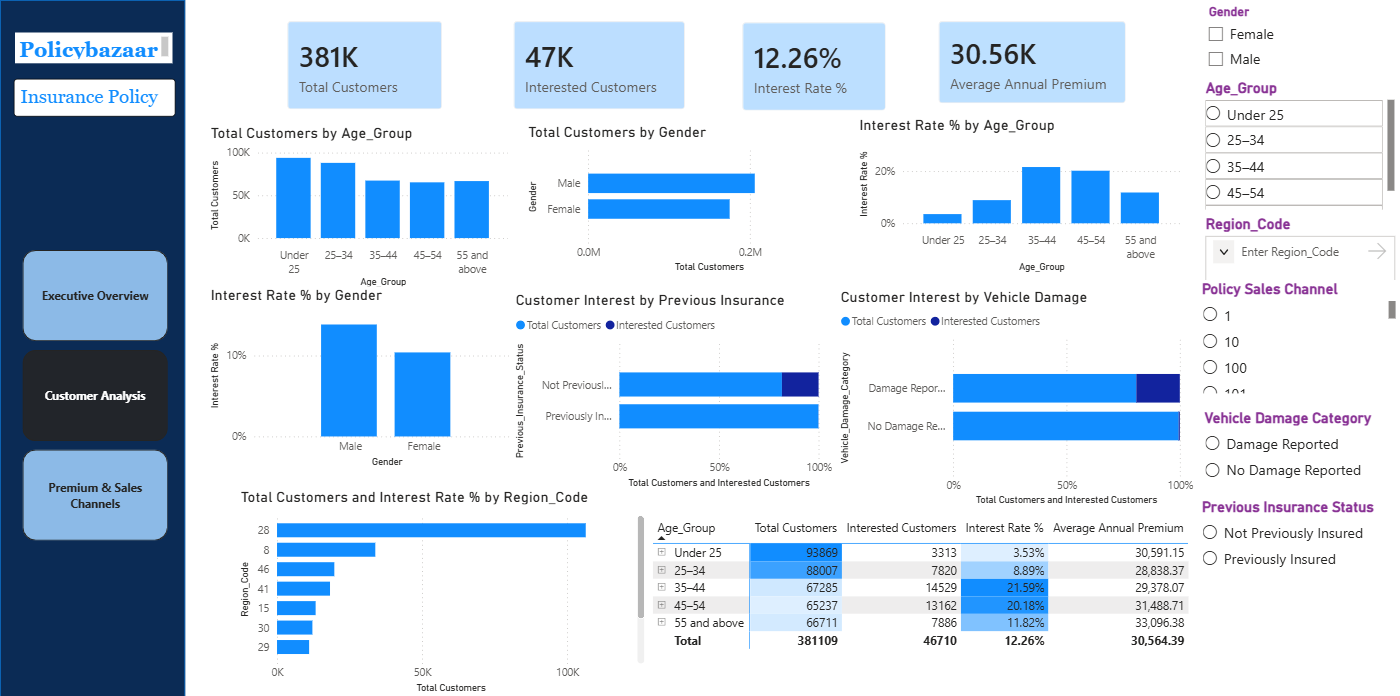

This screenshot's page, from the dashboard's own definition file:
{"tool":"powerbi","page":{"name":"Customer Analysis","canvas":[1400,800],"ordinal":1},"visuals":[{"type":"cardVisual","fields":{"Data":["Customers.Total Customers"]},"box":[90.6,0,211.5,134.7],"z":0},{"type":"cardVisual","fields":{"Data":["Customers.Interested Customers"]},"box":[368.6,0,230,134.3],"z":1000},{"type":"cardVisual","fields":{"Data":["Customers.Interest Rate %"]},"box":[664.3,0,198.6,134.3],"z":2000},{"type":"cardVisual","fields":{"Data":["Customers.Average Annual Premium"]},"box":[892.9,0,248.6,128.6],"z":3000},{"type":"slicer","fields":{"Values":["Customers.Gender"]},"box":[1168.6,0,231.4,90],"z":10000},{"type":"listSlicer","fields":{"Values":["Customers.Age_Group"]},"box":[1168.6,90,225.7,155.7],"z":11000},{"type":"listSlicer","title":"Previous Insurance Status","fields":{"Values":["Customers.Previous_Insurance_Status"]},"box":[1168.6,595.7,231.4,122.9],"z":12000},{"type":"textSlicer","fields":{"Values":["Customers.Region_Code"]},"box":[1168.6,248.6,225.7,81.4],"z":13000},{"type":"listSlicer","title":"Policy Sales Channel","fields":{"Values":["Customers.Policy_Sales_Channel"]},"box":[1168.6,330,231.4,134.3],"z":14000},{"type":"listSlicer","title":"Vehicle Damage Category","fields":{"Values":["Customers.Vehicle_Damage_Category"]},"box":[1168.6,480,227.1,101.4],"z":15000},{"type":"clusteredColumnChart","fields":{"Category":["Customers.Age_Group"],"Y":["Customers.Total Customers"]},"box":[18.6,121.4,350,191.4],"z":15001},{"type":"clusteredBarChart","fields":{"Y":["Customers.Total Customers"],"Category":["Customers.Gender"]},"box":[381.4,125.7,370,175.7],"z":15002},{"type":"clusteredColumnChart","fields":{"Category":["Customers.Age_Group"],"Y":["Customers.Interest Rate %"]},"box":[764.3,125.7,377.1,182.9],"z":15003},{"type":"clusteredColumnChart","fields":{"Category":["Customers.Gender"],"Y":["Customers.Interest Rate %"]},"box":[5.7,320,362.9,211.4],"z":15004},{"type":"clusteredColumnChart","title":"Customer Interest by Previous Insurance","fields":{"Category":["Customers.Previous_Insurance_Status"],"Y":["Customers.Total Customers","Customers.Interested Customers"]},"box":[392.9,317.1,371.4,230],"z":15005},{"type":"clusteredColumnChart","title":"Customer Interest by Vehicle Damage","fields":{"Category":["Customers.Vehicle_Damage_Category"],"Y":["Customers.Total Customers","Customers.Interested Customers"]},"box":[764.3,312.9,384.3,254.3],"z":15006},{"type":"clusteredBarChart","fields":{"Category":["Customers.Region_Code"],"Y":["Customers.Total Customers"]},"box":[0,547.1,471.4,240],"z":15007},{"type":"pivotTable","fields":{"Rows":["Customers.Age_Group","Customers.Gender","Customers.Previous_Insurance_Status","Customers.Vehicle_Damage_Category"],"Values":["Customers.Total Customers","Customers.Interested Customers","Customers.Interest Rate %","Customers.Average Annual Premium"]},"box":[484.3,590,627.1,210],"z":15008}]}

Visuals, with their boxes on the page's 1400x800 design canvas (x1, y1, x2, y2). These are canvas units, not pixel positions in the 1400x696 screenshot, which may show the page scaled, cropped or inside an application window:
cardVisual - Customers.Total Customers: 91,0,302,135
cardVisual - Customers.Interested Customers: 369,0,599,134
cardVisual - Customers.Interest Rate %: 664,0,863,134
cardVisual - Customers.Average Annual Premium: 893,0,1142,129
slicer - Customers.Gender: 1169,0,1400,90
listSlicer - Customers.Age_Group: 1169,90,1394,246
"Previous Insurance Status" listSlicer: 1169,596,1400,719
textSlicer - Customers.Region_Code: 1169,249,1394,330
"Policy Sales Channel" listSlicer: 1169,330,1400,464
"Vehicle Damage Category" listSlicer: 1169,480,1396,581
clusteredColumnChart - Customers.Age_Group x Customers.Total Customers: 19,121,369,313
clusteredBarChart - Customers.Total Customers x Customers.Gender: 381,126,751,301
clusteredColumnChart - Customers.Age_Group x Customers.Interest Rate %: 764,126,1141,309
clusteredColumnChart - Customers.Gender x Customers.Interest Rate %: 6,320,369,531
"Customer Interest by Previous Insurance" clusteredColumnChart: 393,317,764,547
"Customer Interest by Vehicle Damage" clusteredColumnChart: 764,313,1149,567
clusteredBarChart - Customers.Region_Code x Customers.Total Customers: 0,547,471,787
pivotTable - Customers.Age_Group x Customers.Gender: 484,590,1111,800
